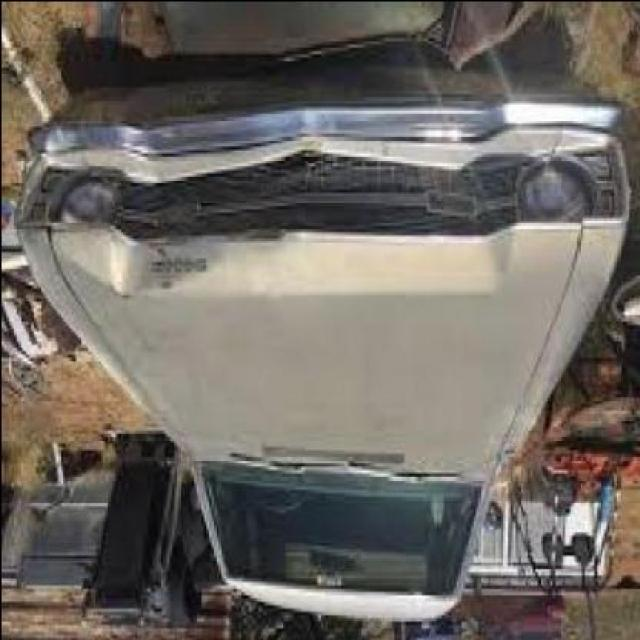damage: (94, 129, 207, 303)
